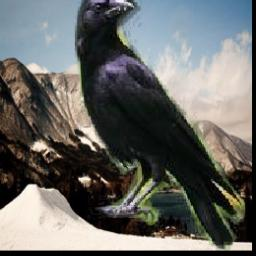Crow: (76, 0, 246, 251)
